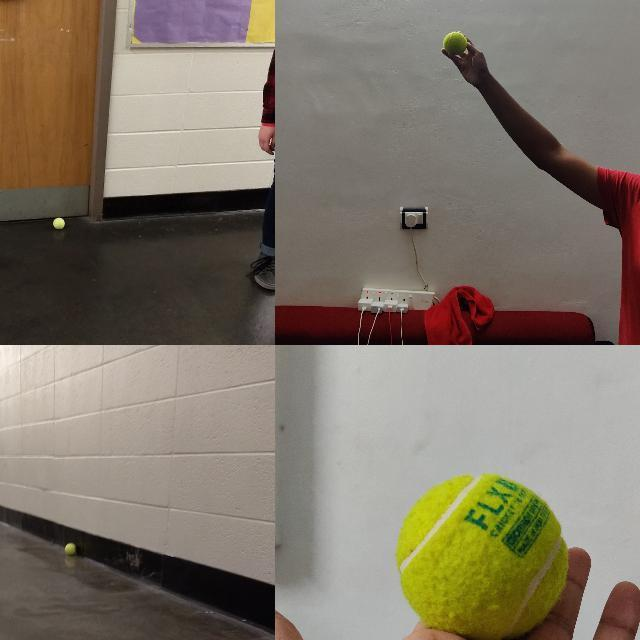tennis-ball: (395, 474, 569, 639), (442, 31, 468, 55), (52, 217, 64, 229), (64, 542, 76, 554)
